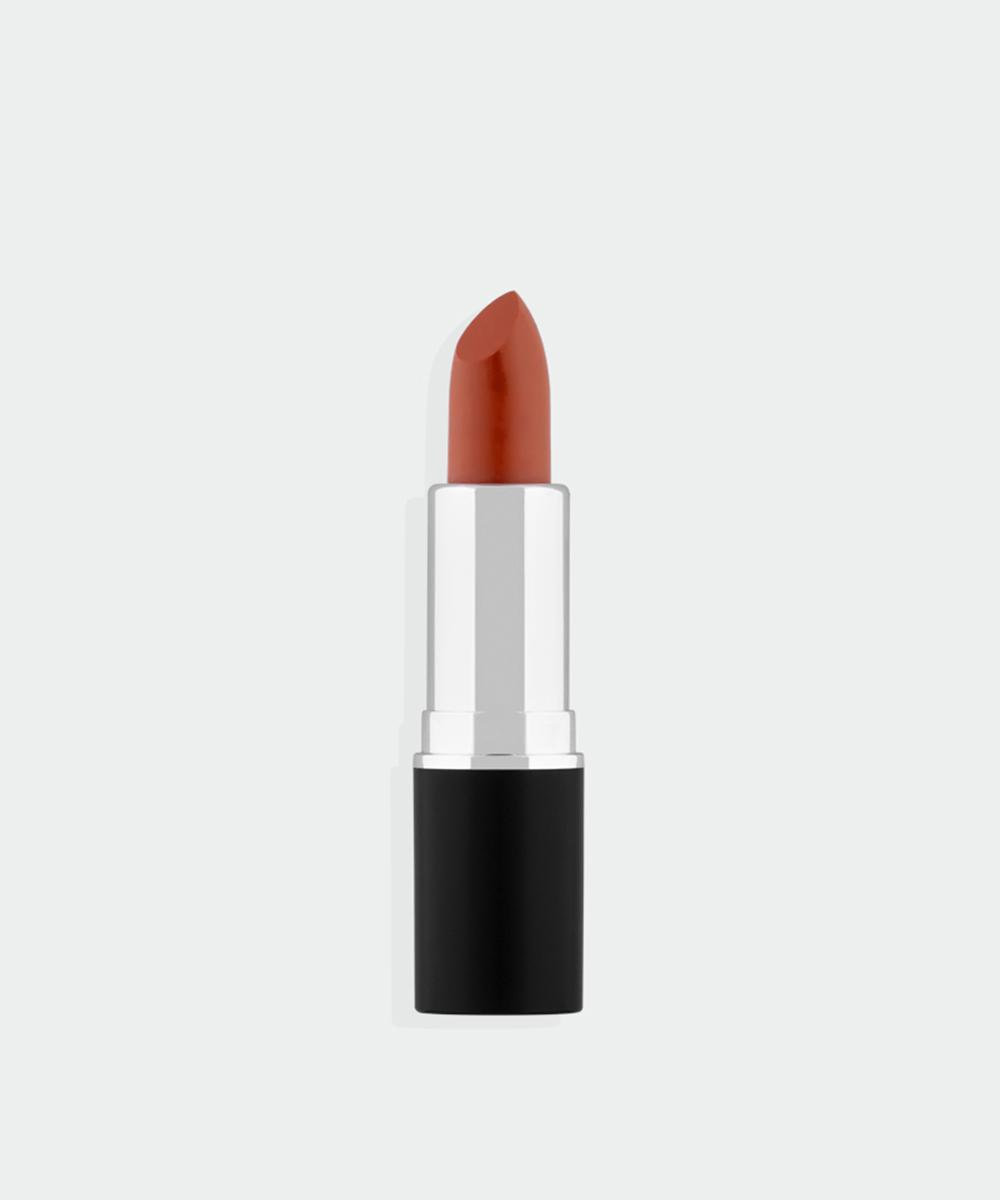lipstick: (362, 257, 634, 1009)
